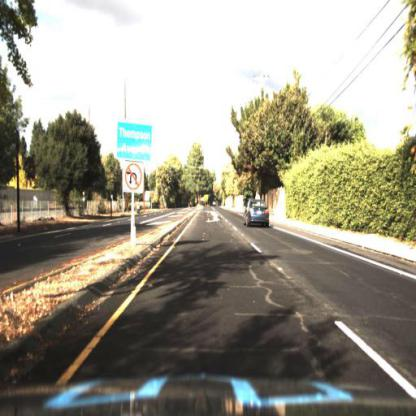car: (244, 199, 271, 229)
